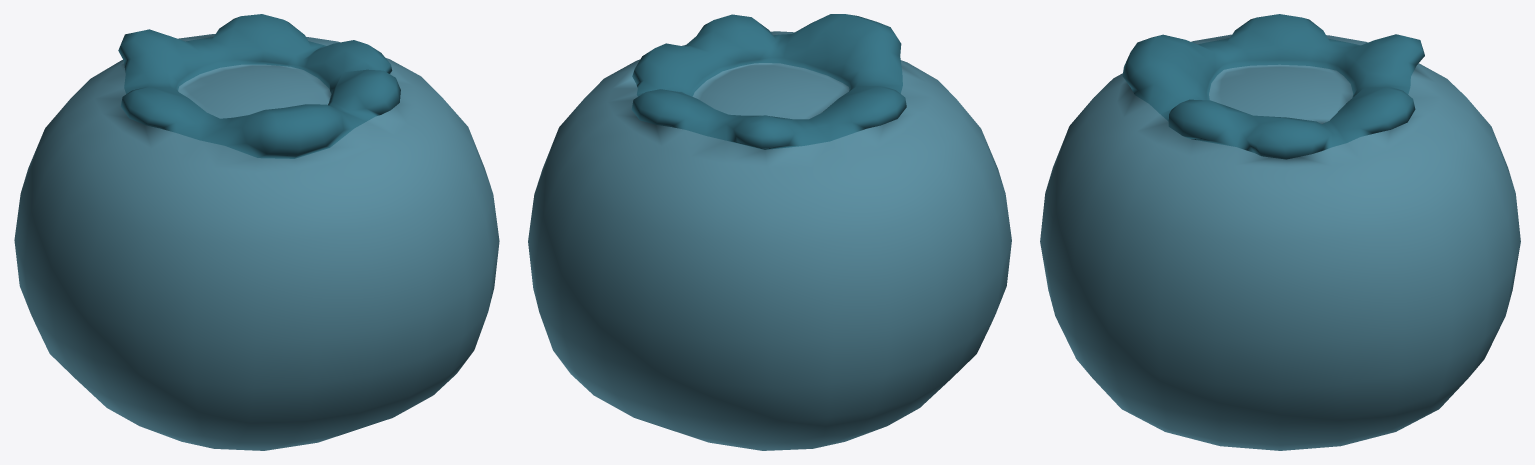
File: Blueberry_03.dae
3 views of the same model, side by side, from view 1: azimuth 30°, elevation 25°; view 2: azimuth 150°, elevation 25°; view 3: azimuth 270°, elevation 25° (orthographic).
Parts seen in each view (by area): view 1: Blueberry_03_LOD0; view 2: Blueberry_03_LOD0; view 3: Blueberry_03_LOD0.
Part boxes in pixels (x1=…): Blueberry_03_LOD0: x1=14, y1=14, x2=499, y2=450; Blueberry_03_LOD0: x1=528, y1=14, x2=1011, y2=450; Blueberry_03_LOD0: x1=1040, y1=14, x2=1520, y2=450.
Size of what is drawn, in the model's own units: 2.17 by 2.17 by 1.8.
